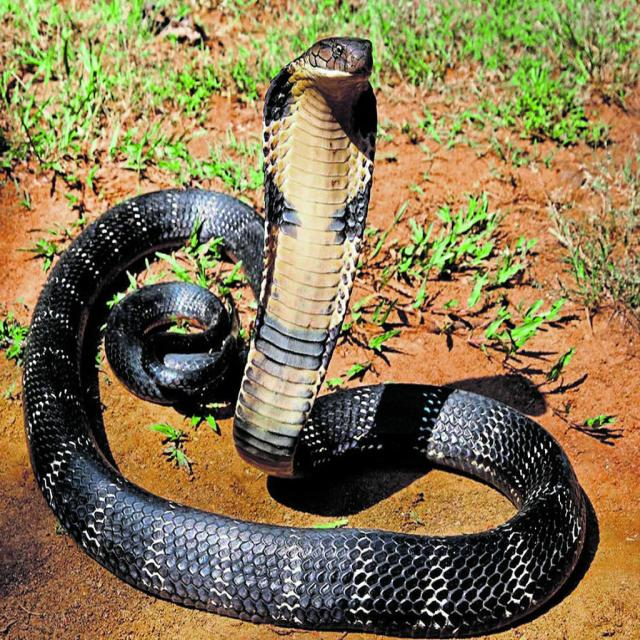Snake: (18, 21, 596, 640)
